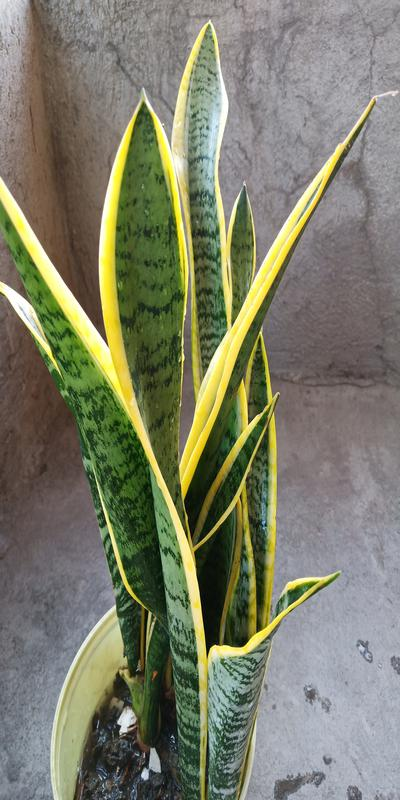Snake plant: (14, 65, 374, 773)
